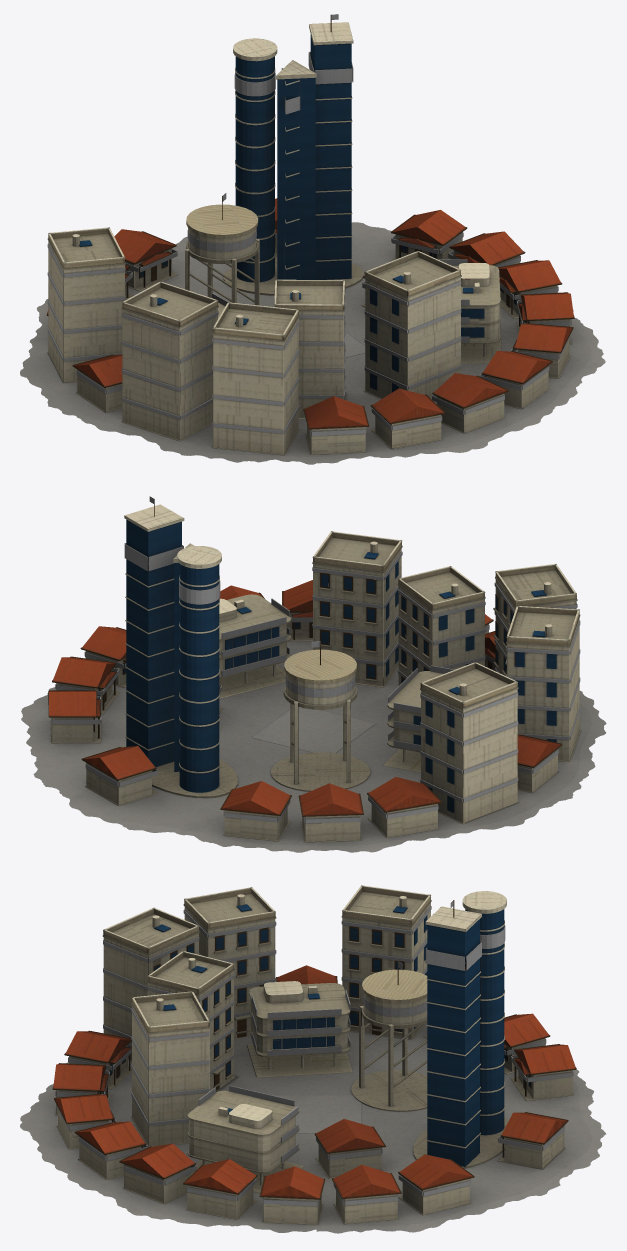
Rendered from modern-town-big-b-israelite.glb.
The picture shows the model from 3 angles, top to bottom: view 1: azimuth 30°, elevation 25°; view 2: azimuth 150°, elevation 25°; view 3: azimuth 270°, elevation 25°; orthographic projection.
Visible parts, largest first — view 1: LOD0; view 2: LOD0; view 3: LOD0.
Part boxes in pixels (box(x1,y1,x2,y2)): LOD0: box(20, 14, 605, 464); LOD0: box(21, 496, 606, 852); LOD0: box(20, 885, 605, 1233).
Size of what is drawn, in the model's own units: 7.89 by 3.85 by 8.05.
Materials: 3 (3 with a texture image).
